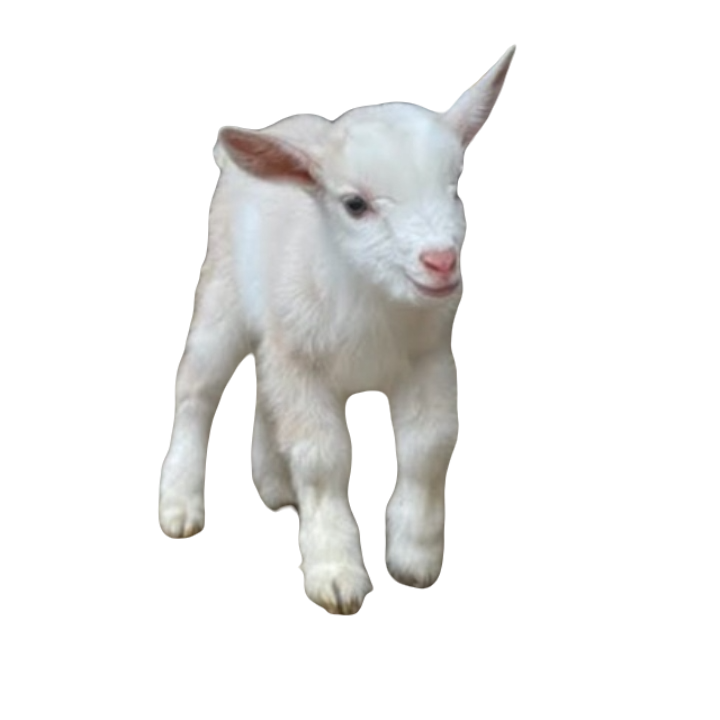Goat: (151, 46, 517, 618)
